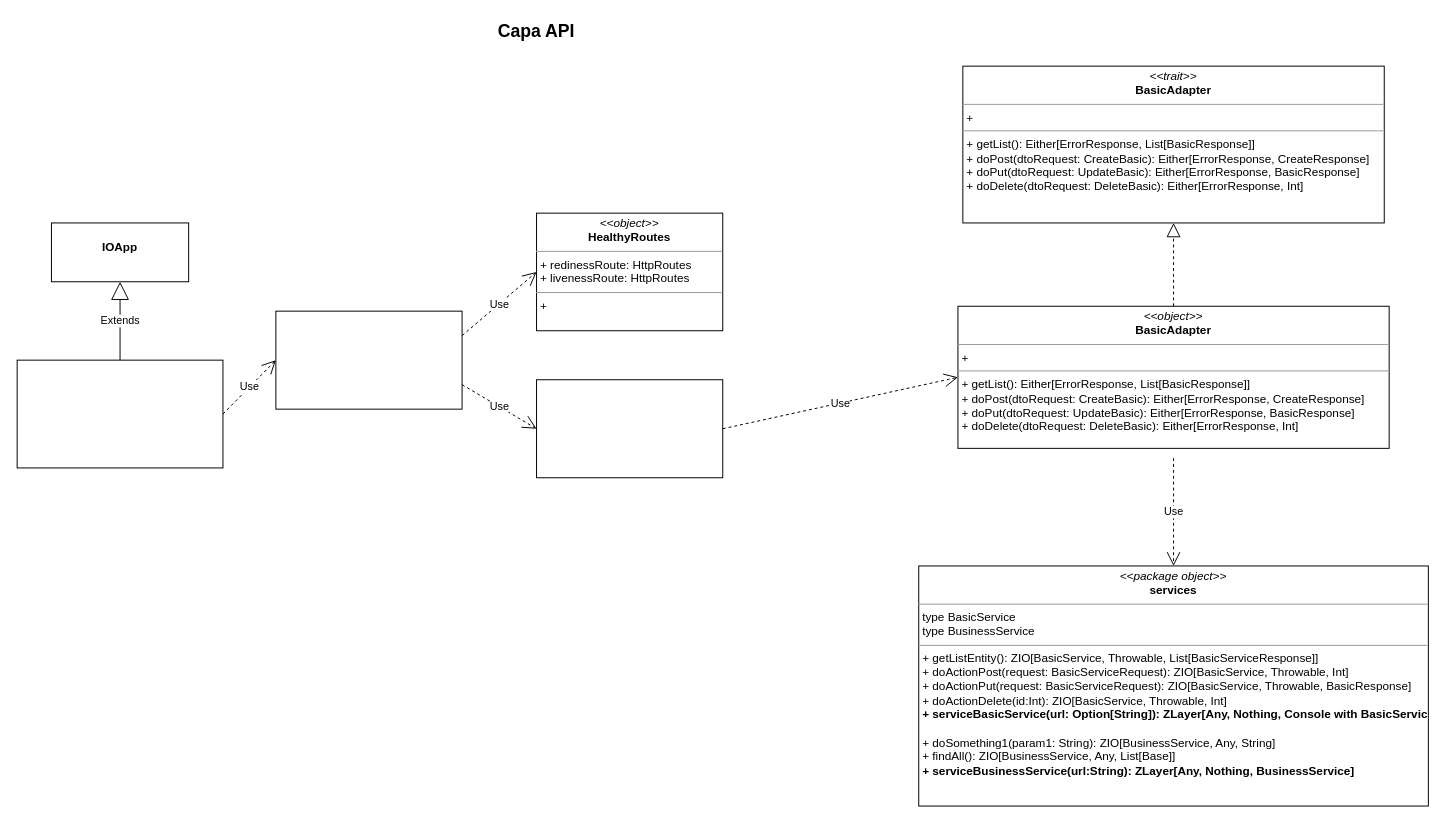
Image size: 1454x823. Some labels were removed from this diagram. Each missing label, with the centre of its shape:
<<object>> App + + run(args: List[String]): IO[ExitCode]: pixel 119 413
<<object>> AppRouter + +: pixel 368 359
<<object>> BasicRoutes + basicRote: HttpRoutes +: pixel 629 428
